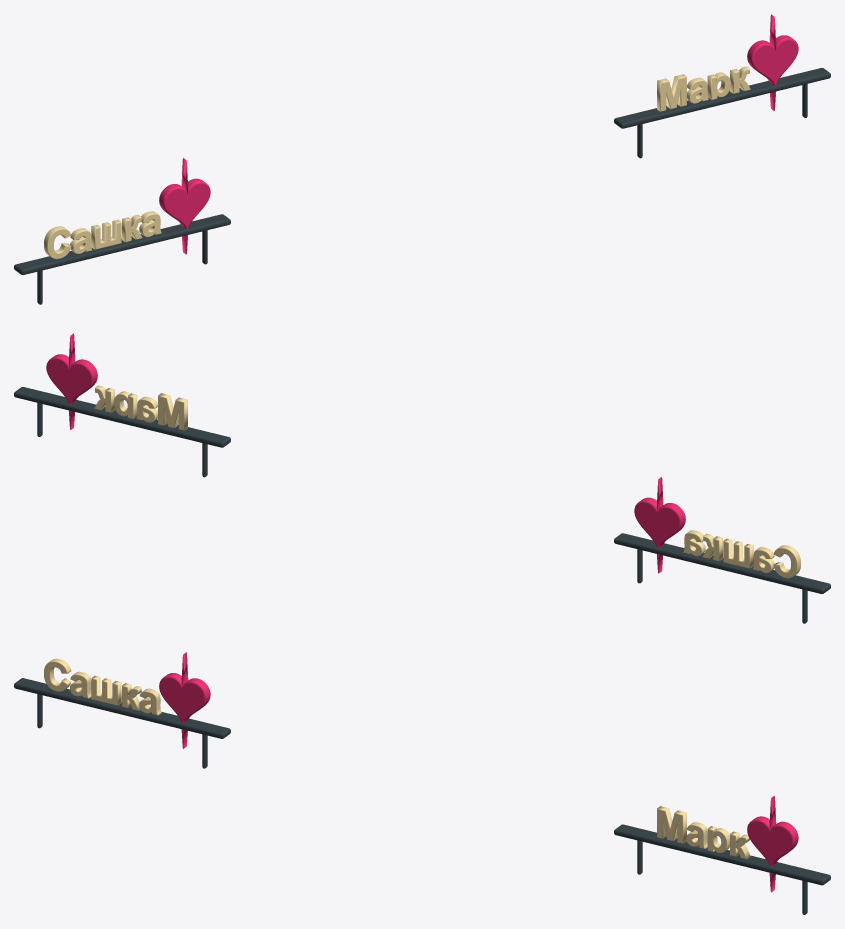
The model's file is office-names.glb.
The picture shows the model from 3 angles, top to bottom: view 1: azimuth 30°, elevation 25°; view 2: azimuth 150°, elevation 25°; view 3: azimuth 330°, elevation 25°; orthographic projection.
Visible parts, largest first — view 1: Сашка, Марк pedestal, Марк, Сашка pedestal, Сашка heart, Марк heart; view 2: Сашка, Марк pedestal, Марк, Сашка pedestal, Сашка heart, Марк heart; view 3: Сашка, Марк pedestal, Марк, Сашка pedestal, Сашка heart, Марк heart.
Part boxes in pixels (<box>): Сашка: <box>44,211,161,259</box>; Марк pedestal: <box>614,68,830,128</box>; Марк: <box>657,66,750,111</box>; Сашка pedestal: <box>14,214,230,274</box>; Сашка heart: <box>159,158,210,254</box>; Марк heart: <box>747,14,798,110</box>; Сашка: <box>683,530,800,578</box>; Марк pedestal: <box>14,387,230,447</box>; Марк: <box>94,385,187,430</box>; Сашка pedestal: <box>614,533,830,593</box>; Сашка heart: <box>634,477,685,573</box>; Марк heart: <box>46,333,97,429</box>; Сашка: <box>44,658,161,715</box>; Марк pedestal: <box>614,824,830,885</box>; Марк: <box>657,806,750,859</box>; Сашка pedestal: <box>14,678,230,738</box>; Сашка heart: <box>159,652,210,748</box>; Марк heart: <box>747,795,798,892</box>.
Size of the model in its own units: 32.4 by 4.2 by 0.6.
